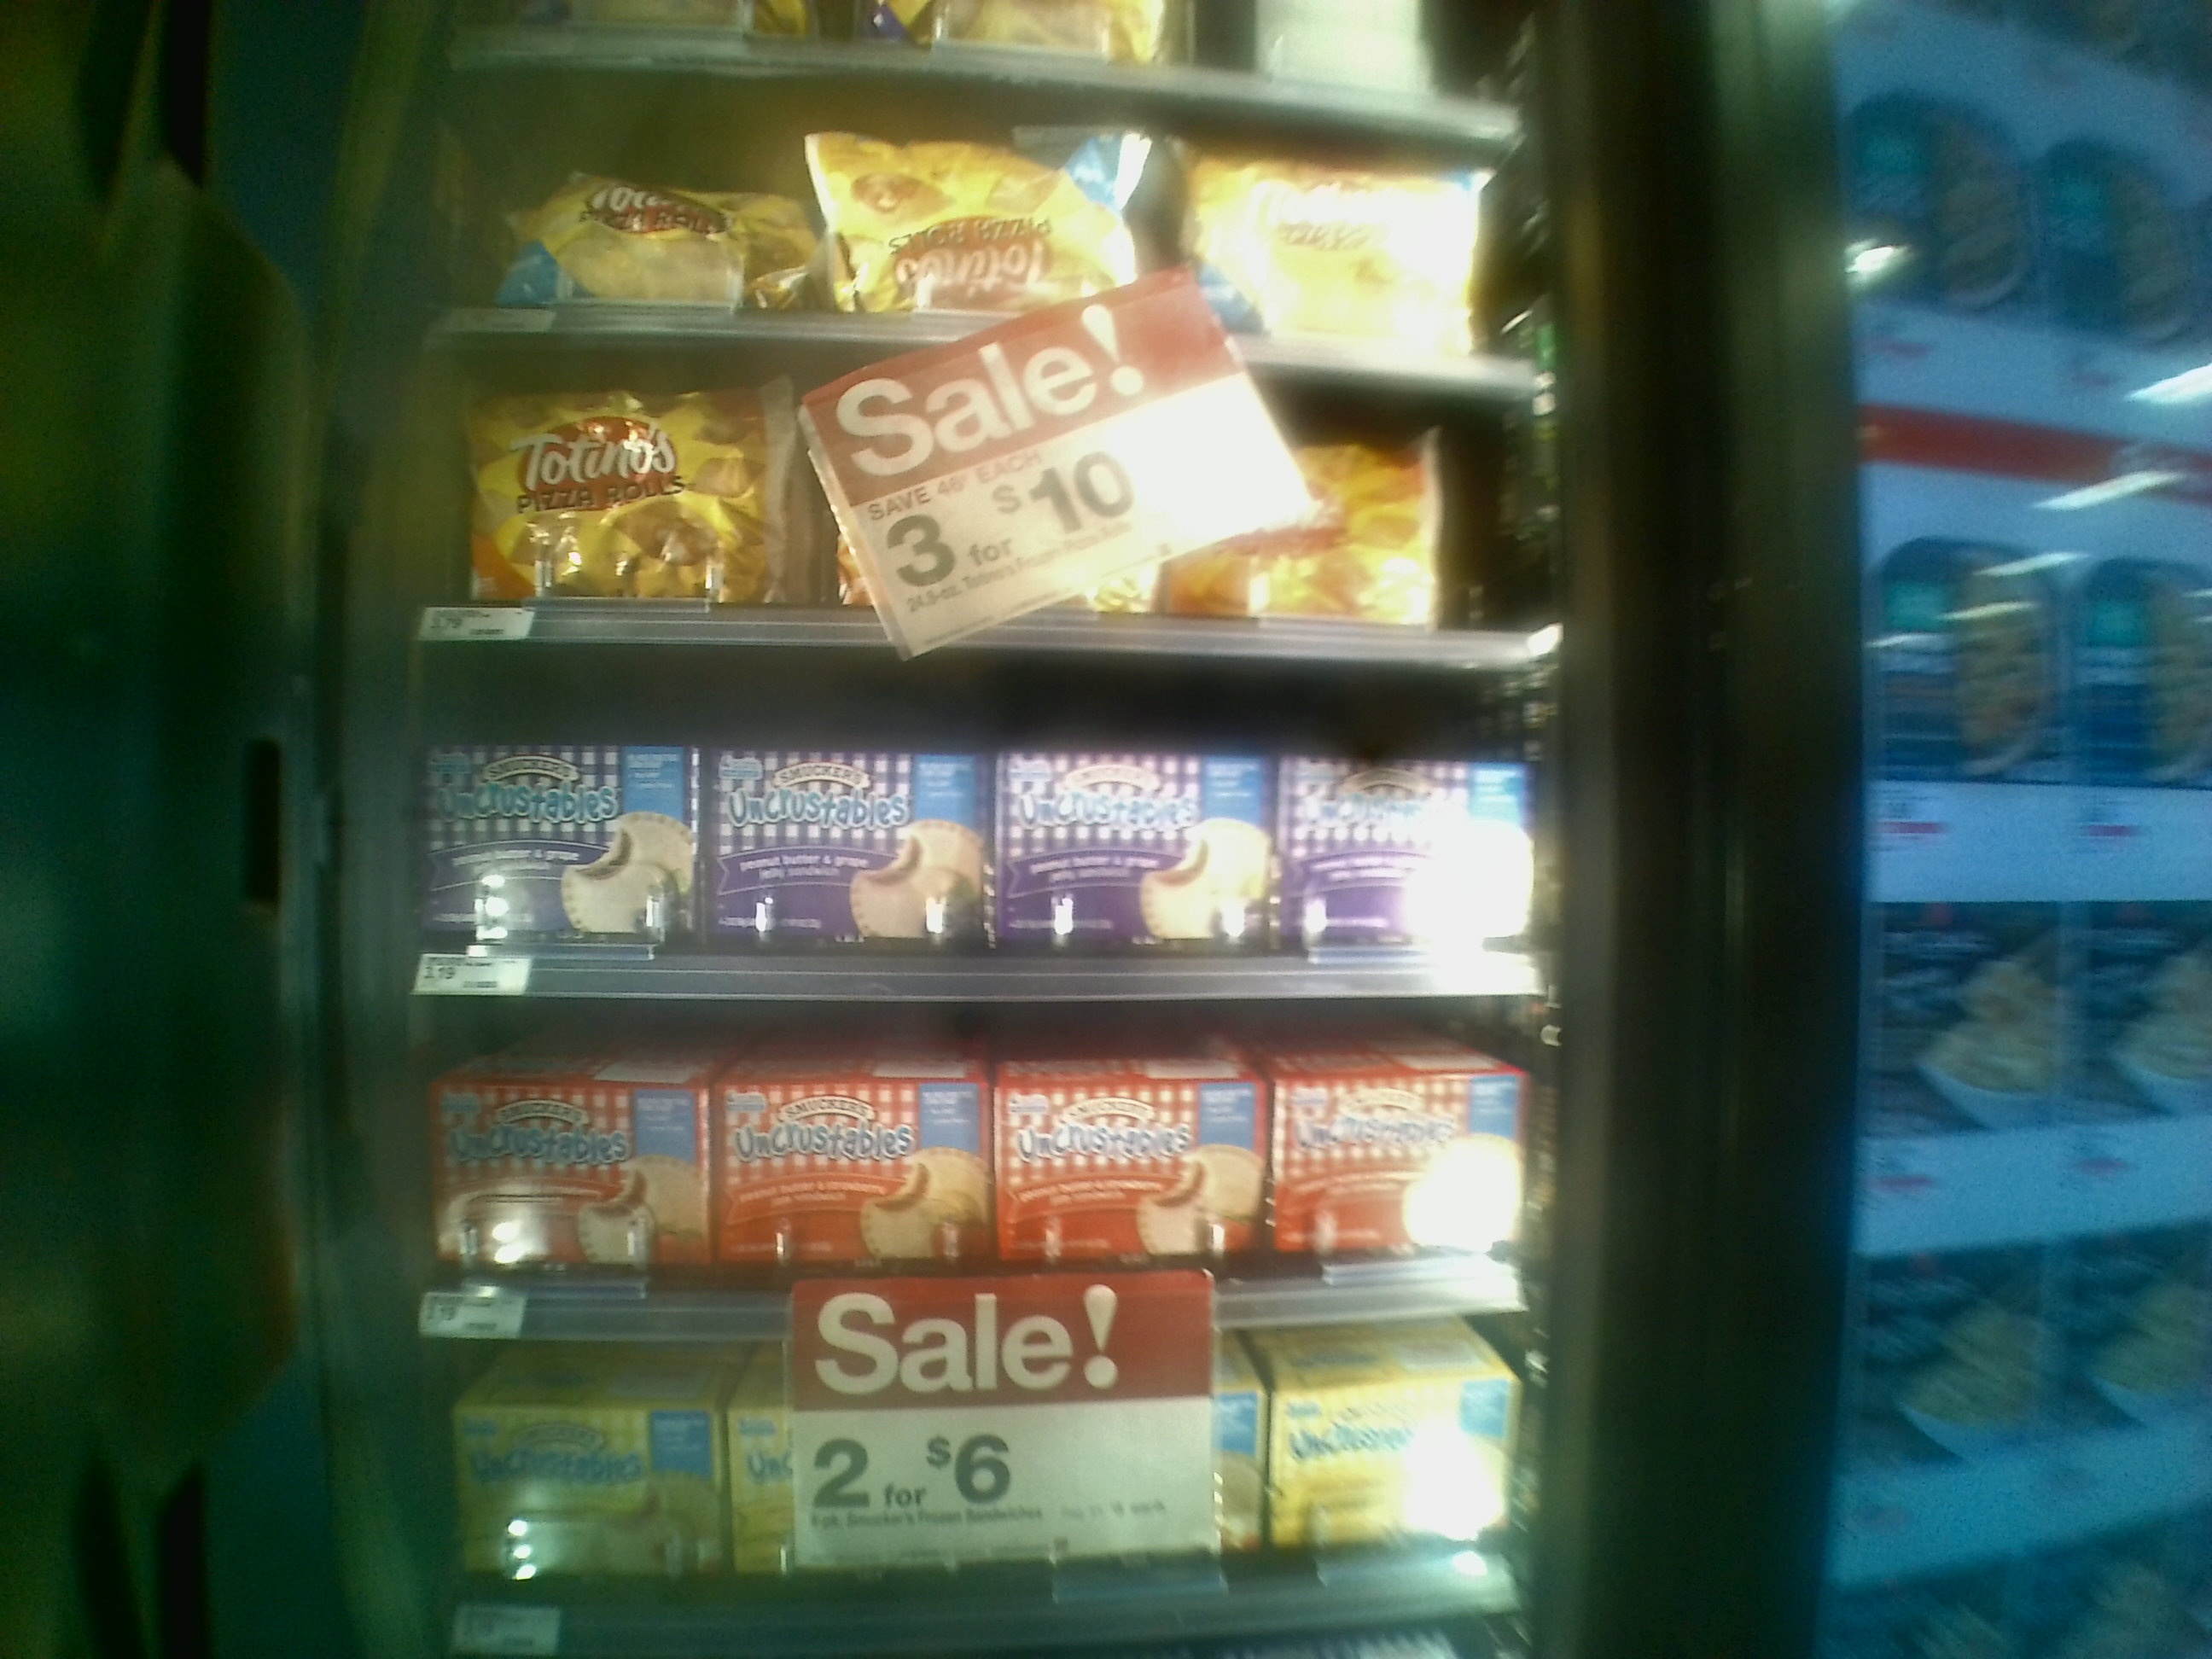shelf: (371, 319, 1564, 674), (404, 655, 1561, 1016), (383, 1004, 1536, 1321), (397, 1342, 1522, 1645)
